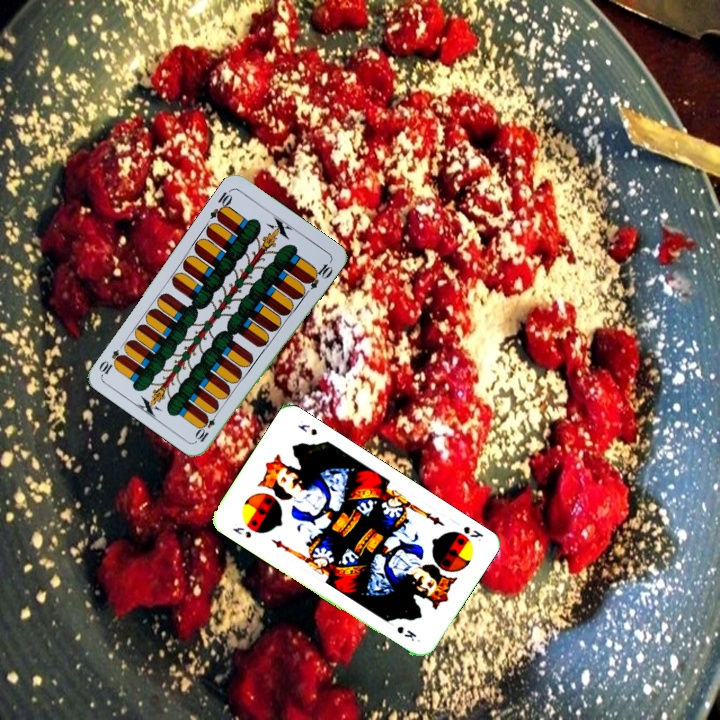E10: (206, 185, 235, 224), (192, 407, 221, 445)
SK: (459, 522, 486, 544), (228, 523, 254, 541)
